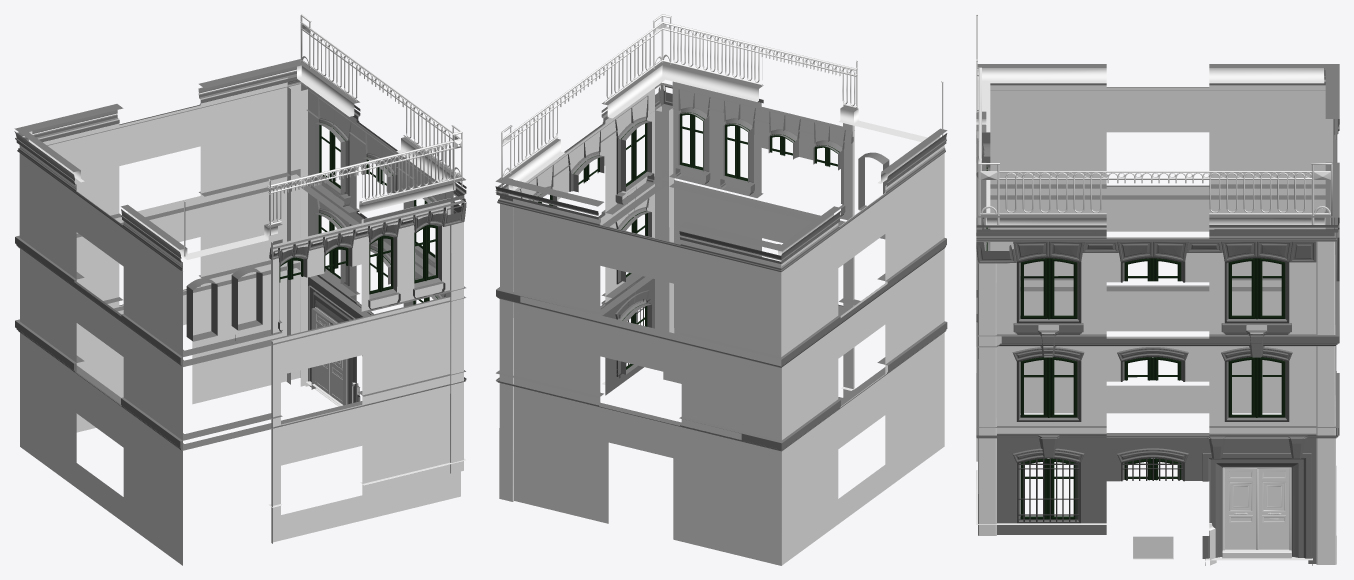
File: B_BuildingCorner.obj
The picture shows the model from 3 angles, left to right: view 1: azimuth 30°, elevation 25°; view 2: azimuth 150°, elevation 25°; view 3: azimuth 270°, elevation 25°; orthographic projection. The views are drawn at different scales.
Visible parts, largest first — view 1: B_BuildingCorner_m7, B_BuildingCorner_m3, B_BuildingCorner_m6, B_BuildingCorner_m2, B_BuildingCorner_m0, B_BuildingCorner_m1, B_BuildingCorner_m4; view 2: B_BuildingCorner_m7, B_BuildingCorner_m3, B_BuildingCorner_m2, B_BuildingCorner_m6, B_BuildingCorner_m0, B_BuildingCorner_m1; view 3: B_BuildingCorner_m7, B_BuildingCorner_m3, B_BuildingCorner_m6, B_BuildingCorner_m1, B_BuildingCorner_m0, B_BuildingCorner_m2, B_BuildingCorner_m4, B_BuildingCorner_m5.
Part boxes in pixels (x1,y1,x2,y2): B_BuildingCorner_m7: [19, 77, 460, 565]; B_BuildingCorner_m3: [14, 59, 466, 450]; B_BuildingCorner_m6: [286, 83, 463, 473]; B_BuildingCorner_m2: [183, 14, 462, 256]; B_BuildingCorner_m0: [29, 65, 465, 507]; B_BuildingCorner_m1: [279, 122, 437, 304]; B_BuildingCorner_m4: [315, 307, 346, 404]; B_BuildingCorner_m7: [508, 81, 944, 565]; B_BuildingCorner_m3: [495, 60, 947, 451]; B_BuildingCorner_m2: [501, 14, 943, 187]; B_BuildingCorner_m6: [499, 106, 674, 501]; B_BuildingCorner_m0: [508, 65, 940, 390]; B_BuildingCorner_m1: [533, 112, 839, 369]; B_BuildingCorner_m7: [976, 80, 1332, 461]; B_BuildingCorner_m3: [976, 64, 1339, 563]; B_BuildingCorner_m6: [978, 241, 1336, 564]; B_BuildingCorner_m1: [986, 167, 1285, 519]; B_BuildingCorner_m0: [976, 68, 1324, 565]; B_BuildingCorner_m2: [976, 14, 1332, 224]; B_BuildingCorner_m4: [1222, 467, 1291, 550]; B_BuildingCorner_m5: [1017, 257, 1288, 523].
Size of the model in its own units: 10.6 by 12.92 by 10.6.
